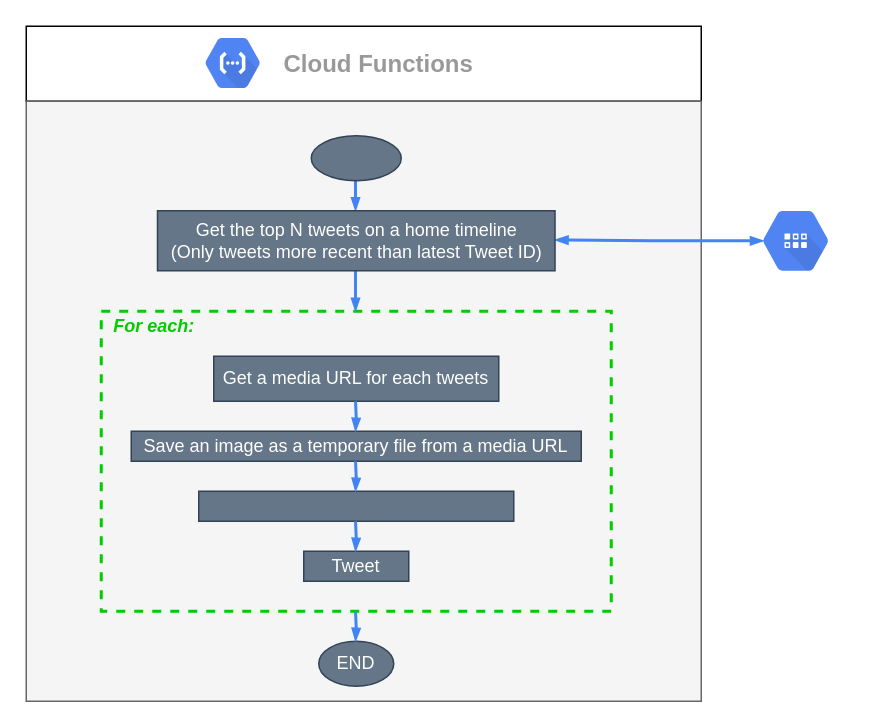
The diagram is 878 pixels wide and 728 high, and some of its shapes have lost their labels. The shapes that lost their labels are listed below. From the top down, each one's box as (x1, y1, x2, y2) in pixels, then its label:
(310, 134, 401, 181): START
(746, 196, 844, 284): Cloud Datastore
(197, 490, 514, 521): Detect faces by using OpenCV(DNN)
